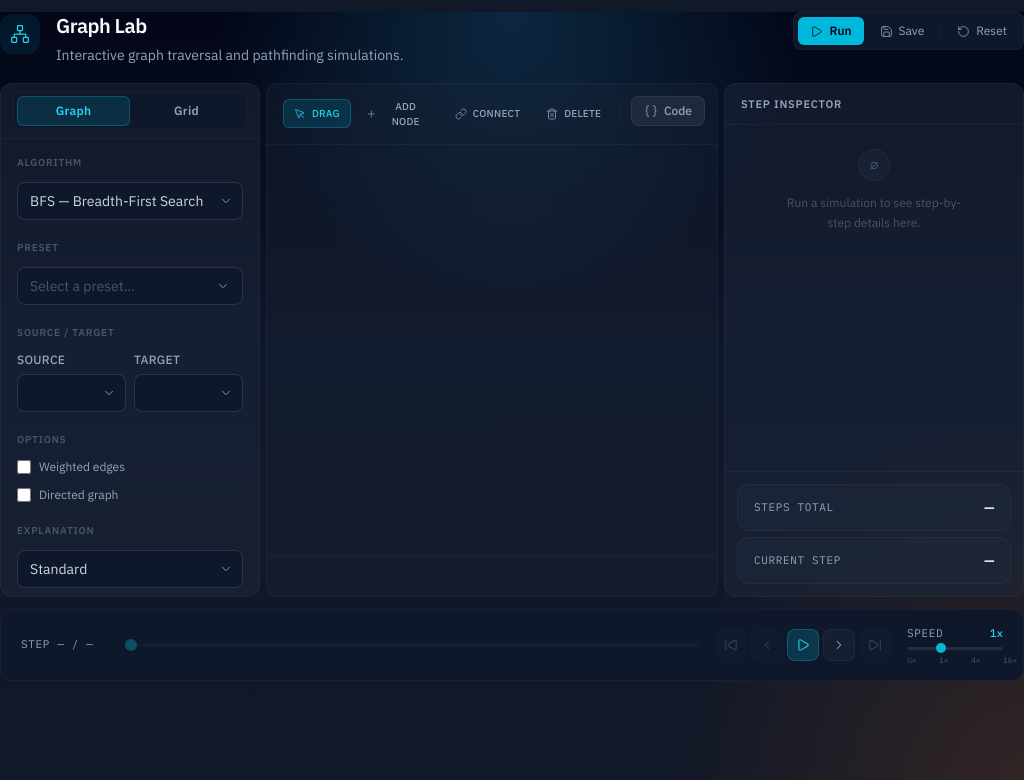
Scenario: GraphLabPage — mode switch › shows GridConfig panel in grid mode instead of GraphConfig
Check: the button labelled "Select a preset…" is shown, box [17, 267, 243, 305]
Switch to grid
Click the button "Grid" at (186, 111), box [130, 96, 243, 126]
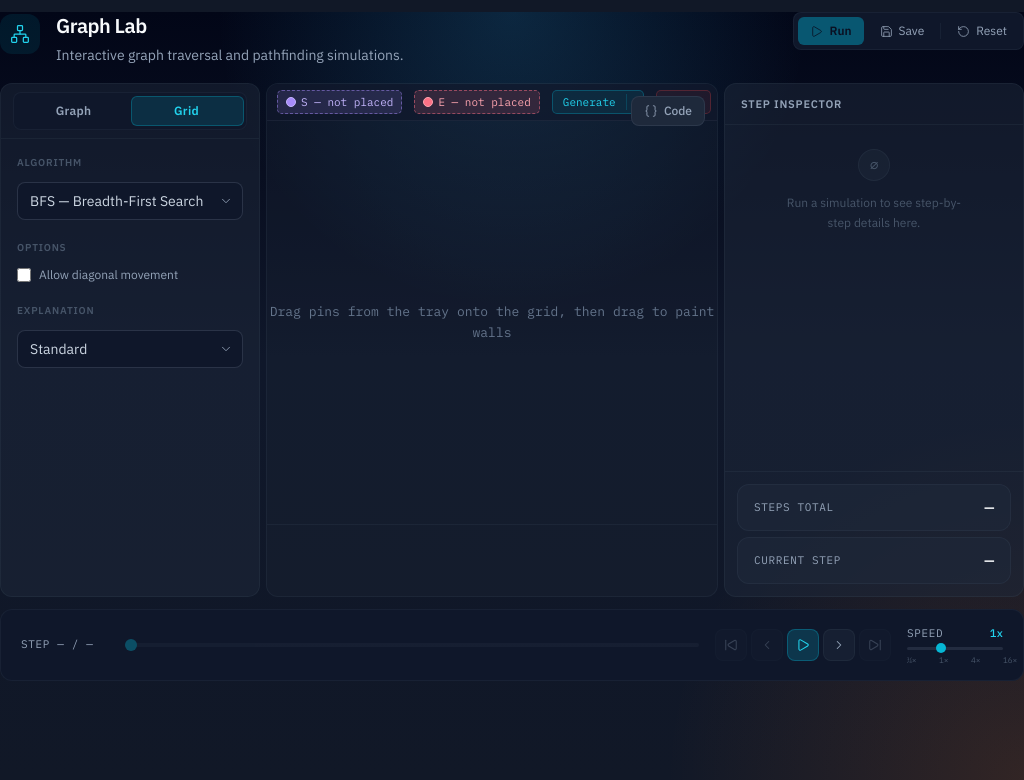
Check: the dropdown named "Algorithm" shows "BFS — Breadth-First Search", box [17, 182, 243, 220]
Check: the text labelled "Preset" is gone
